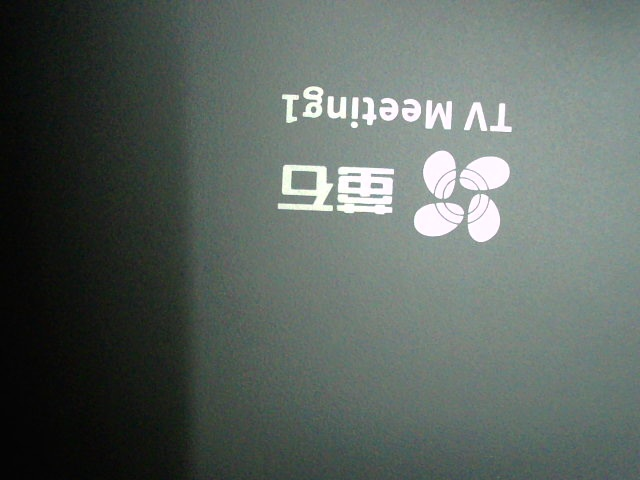BA_Yingshi: (274, 86, 519, 245)
